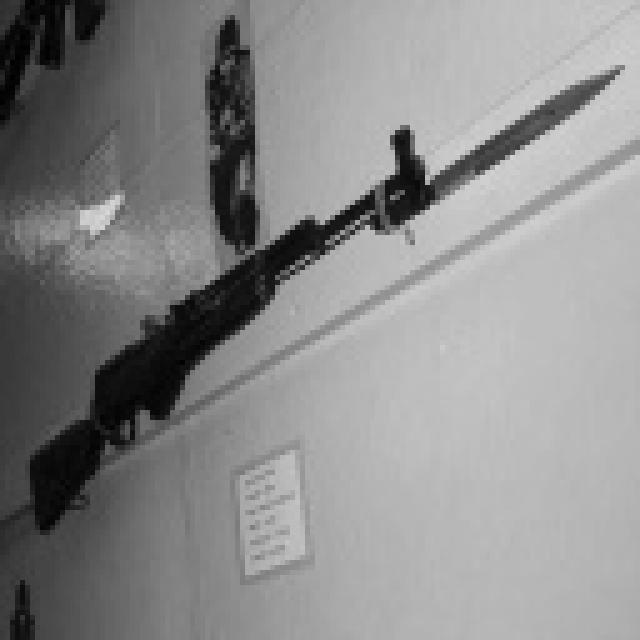Rifle: (5, 35, 640, 545)
